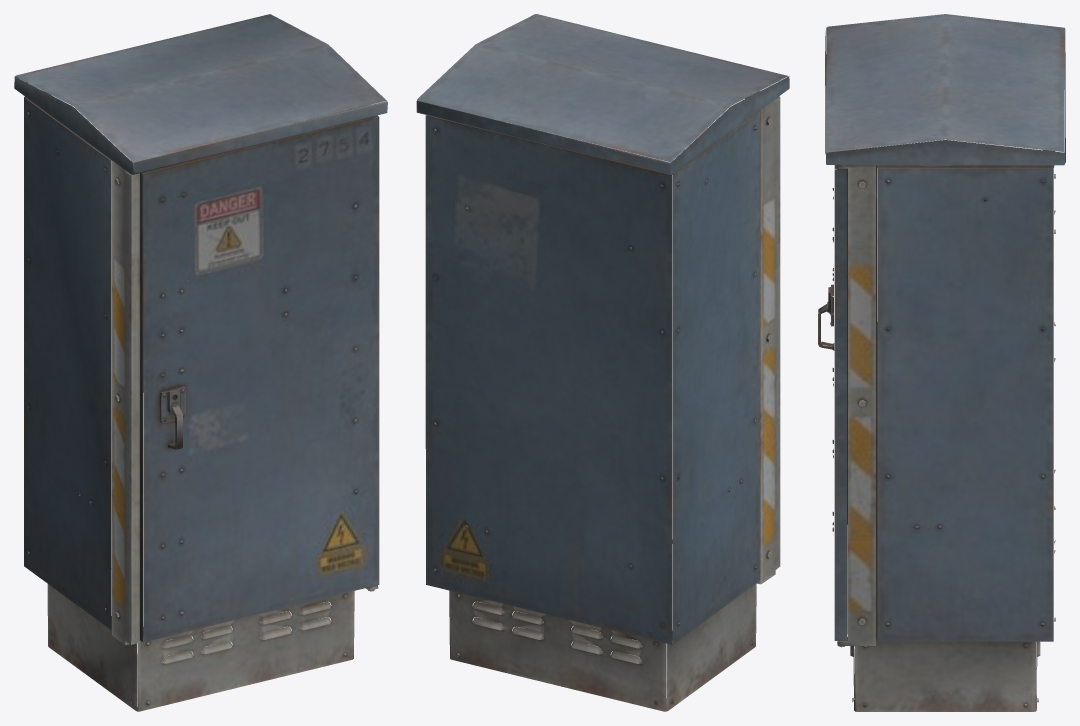
The model's file is utility_box.glb.
3 views of the same model, side by side, from view 1: azimuth 30°, elevation 25°; view 2: azimuth 150°, elevation 25°; view 3: azimuth 270°, elevation 25° (orthographic).
Visible parts, largest first — view 1: utility_box; view 2: utility_box; view 3: utility_box.
Part boxes in pixels (x1,y1,x2,y2): utility_box: (14, 14, 387, 711); utility_box: (416, 14, 789, 711); utility_box: (818, 14, 1065, 711).
Bounding box in the file's own units: 0.0259 × 0.056 × 0.0216.
1 material, 1 textured.
